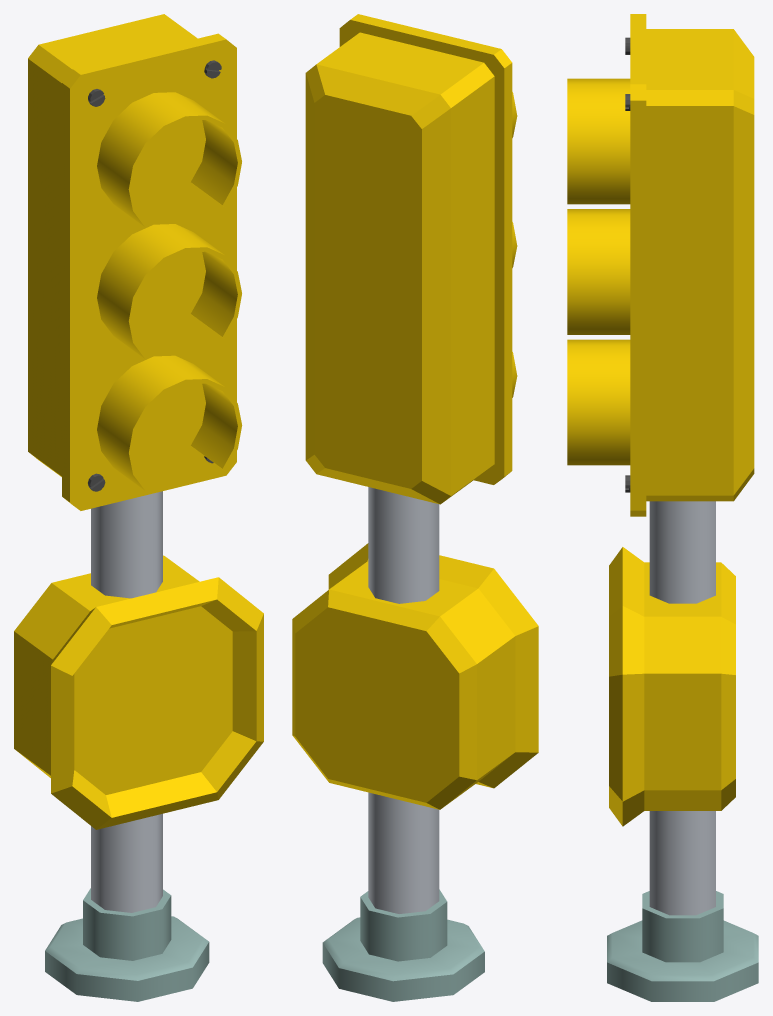
Rendered from traffic-lights.glb.
3 views of the same model, side by side, from view 1: azimuth 30°, elevation 25°; view 2: azimuth 150°, elevation 25°; view 3: azimuth 270°, elevation 25° (orthographic).
Visible parts, largest first — view 1: trafficLightsBox, buttonHousing, lightHoods, pole, base; view 2: trafficLightsBox, buttonHousing, pole, base; view 3: trafficLightsBox, buttonHousing, lightHoods, pole, base.
Part boxes in pixels (box(x1,y1,x2,y2)): trafficLightsBox: box(28, 14, 236, 510); buttonHousing: box(14, 555, 263, 829); lightHoods: box(97, 92, 242, 490); pole: box(91, 491, 162, 912); base: box(45, 888, 209, 1001); trafficLightsBox: box(305, 14, 512, 504); buttonHousing: box(292, 543, 538, 809); pole: box(368, 487, 439, 913); base: box(322, 889, 484, 1001); trafficLightsBox: box(630, 14, 754, 516); buttonHousing: box(609, 547, 735, 826); lightHoods: box(567, 78, 630, 465); pole: box(649, 501, 715, 915); base: box(607, 891, 758, 1001).
Size of what is drawn, in the model's own units: 1.02 by 4.23 by 0.7977.
